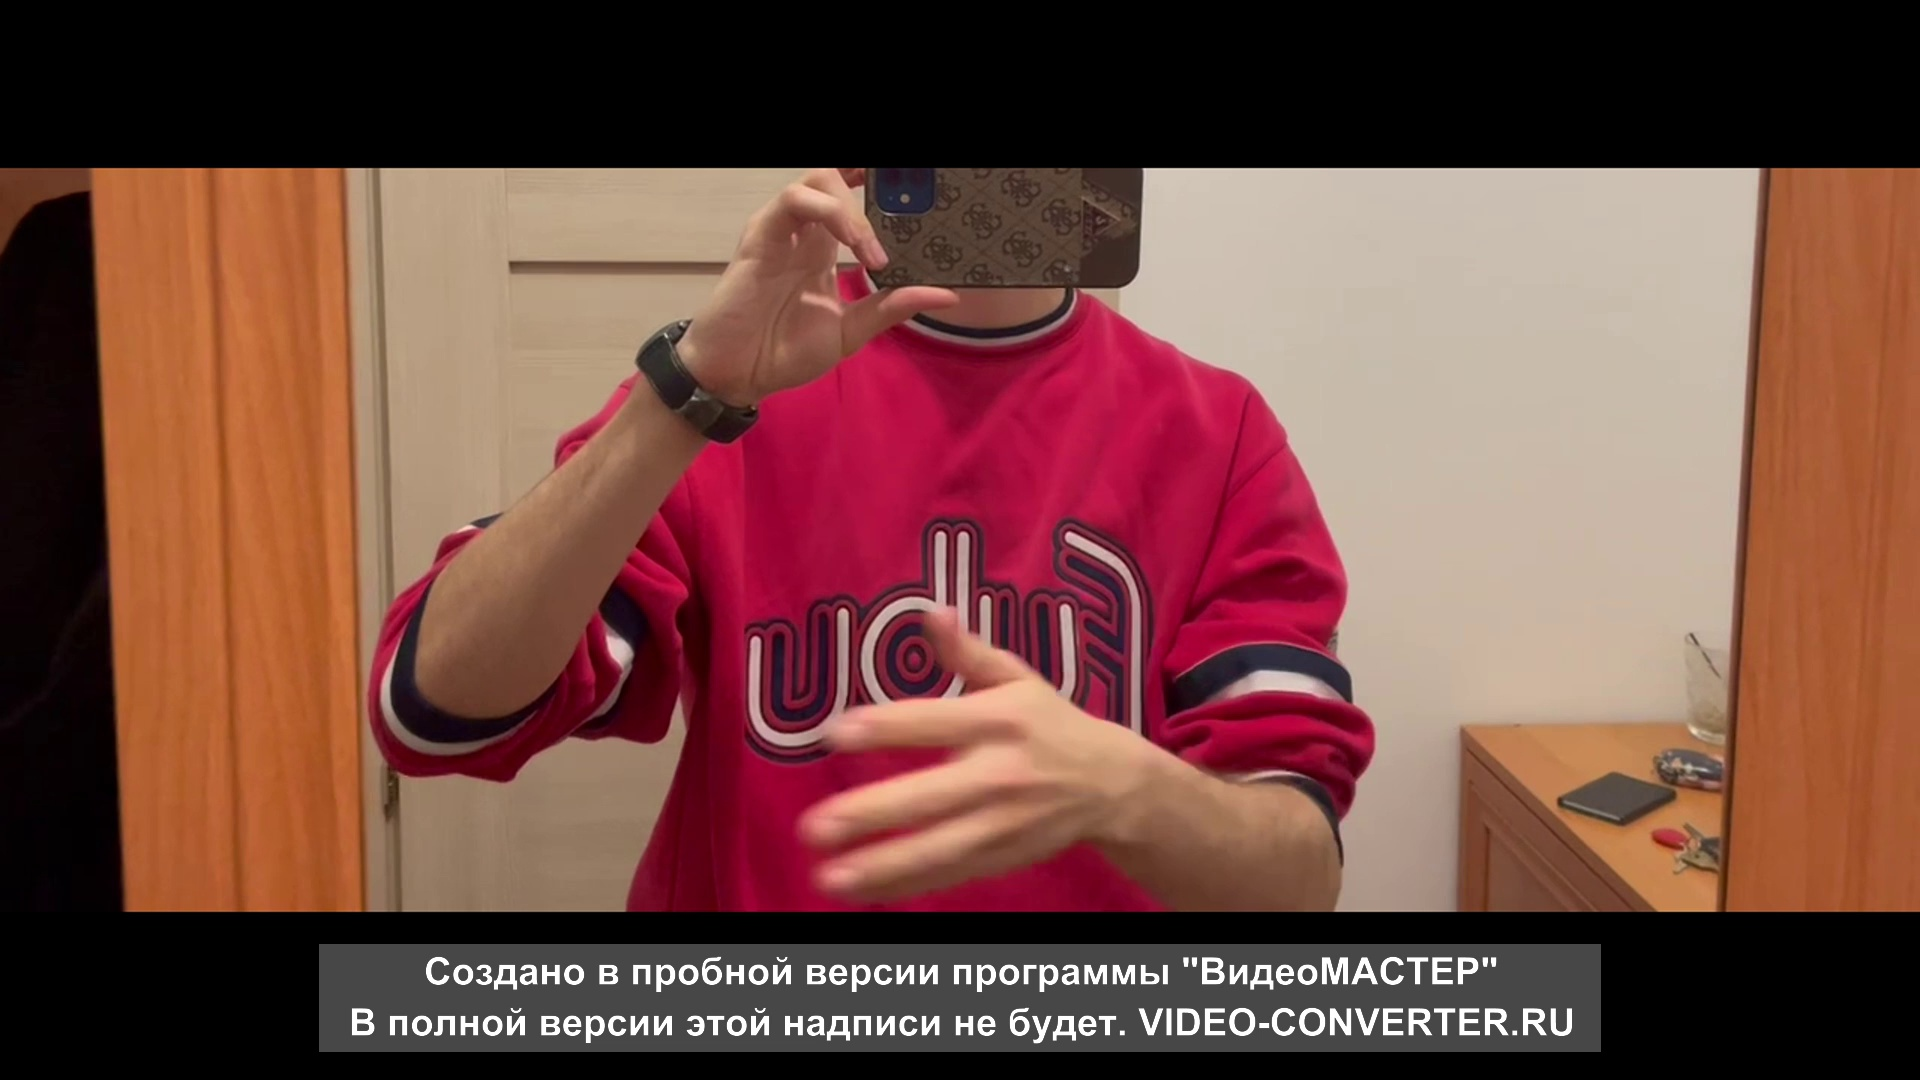Кисть: (795, 607, 1083, 909)
